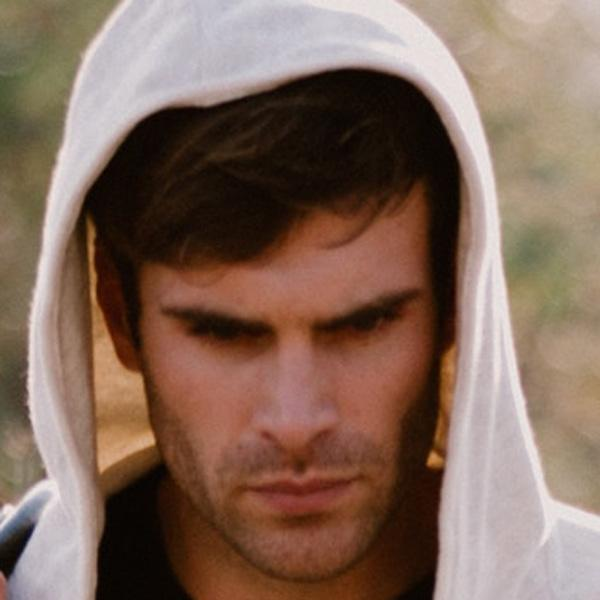Eyes: (185, 310, 268, 354), (324, 299, 403, 343)
